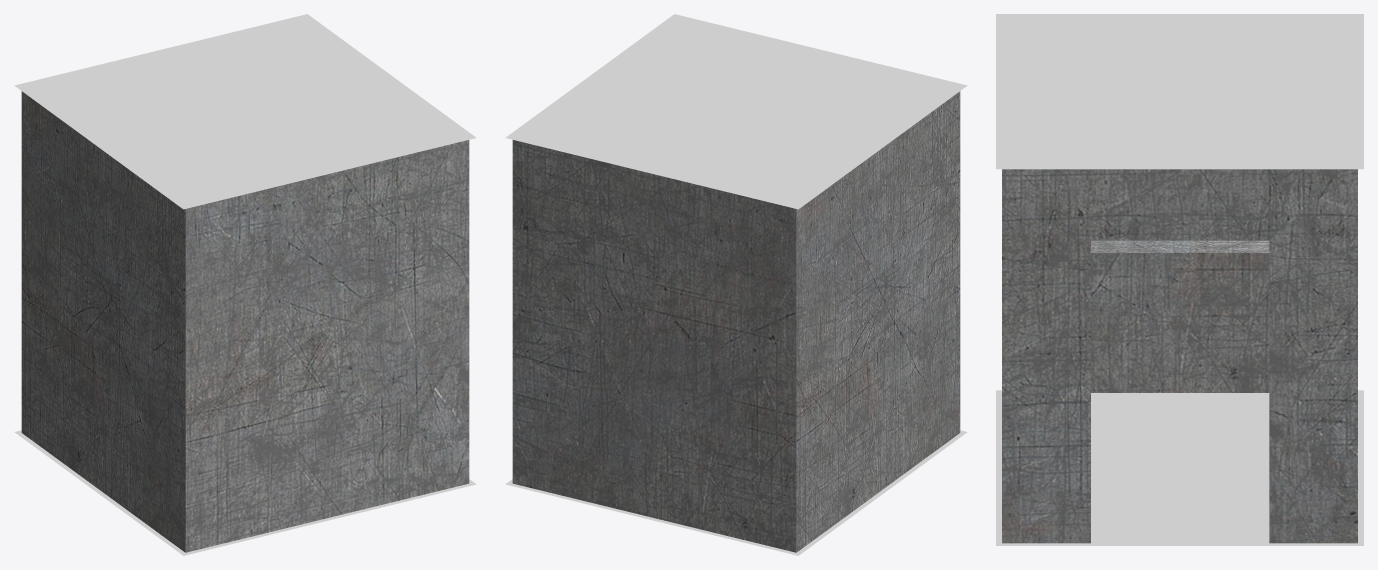
Rendered from elevator.glb.
3 renders of one model, left to right at view 1: azimuth 30°, elevation 25°; view 2: azimuth 150°, elevation 25°; view 3: azimuth 270°, elevation 25°, orthographic. The views are drawn at different scales.
Visible parts, largest first — view 1: Walls, Ceiling, Floor; view 2: Walls, Ceiling, Floor; view 3: Walls, Ceiling, Floor.
Boxes of the visible parts, box(x1,y1,x2,y2) form: Walls: box(21, 91, 469, 552); Ceiling: box(14, 14, 476, 209); Floor: box(14, 430, 476, 555); Walls: box(512, 91, 960, 552); Ceiling: box(505, 14, 967, 209); Floor: box(505, 430, 967, 555); Walls: box(1002, 169, 1357, 543); Ceiling: box(996, 14, 1363, 169); Floor: box(996, 390, 1363, 545).
Size of the model in its own units: 6.6 by 7 by 6.2.
Materials: 1 (1 with a texture image).
